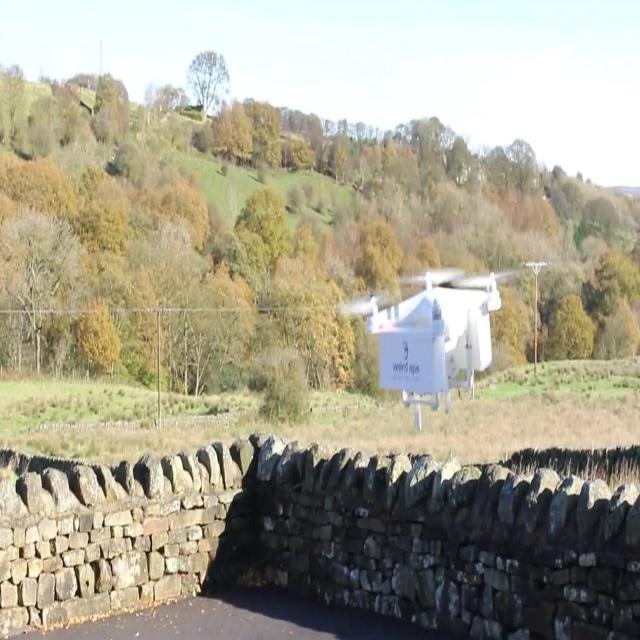drone: (347, 264, 502, 430)
